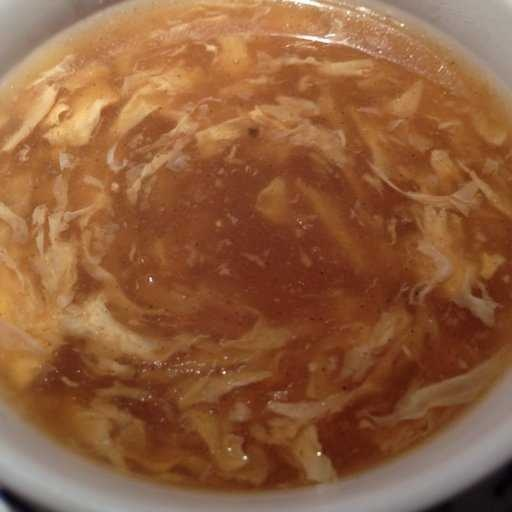soup: (5, 10, 510, 481)
